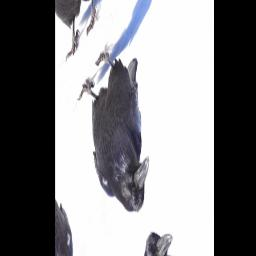Crow: (73, 14, 170, 247)
